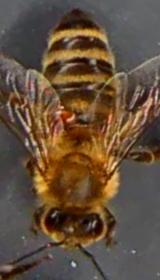varroa_mite: (52, 104, 82, 124)
